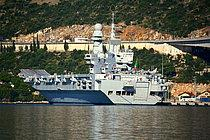MIL_Ship: (19, 21, 169, 107)
